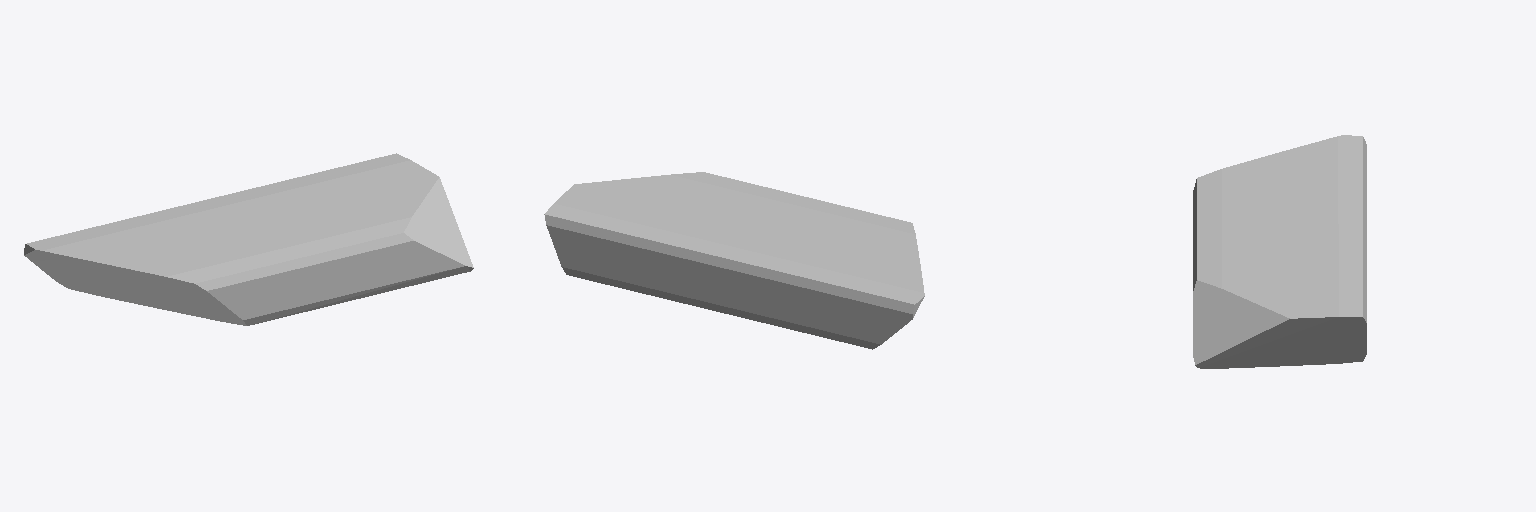
The model's file is torii_broken_004.obj.
3 renders of one model, left to right at view 1: azimuth 30°, elevation 25°; view 2: azimuth 150°, elevation 25°; view 3: azimuth 270°, elevation 25°, orthographic.
Visible parts, largest first — view 1: 鳥居.001_cell.004_鳥居.001_cell.033; view 2: 鳥居.001_cell.004_鳥居.001_cell.033; view 3: 鳥居.001_cell.004_鳥居.001_cell.033.
Part boxes in pixels (x1,y1,x2,y2): 鳥居.001_cell.004_鳥居.001_cell.033: (24, 153, 473, 325); 鳥居.001_cell.004_鳥居.001_cell.033: (544, 172, 924, 349); 鳥居.001_cell.004_鳥居.001_cell.033: (1193, 135, 1366, 368).
Size of the model in its own units: 1.08 by 0.161 by 0.431.